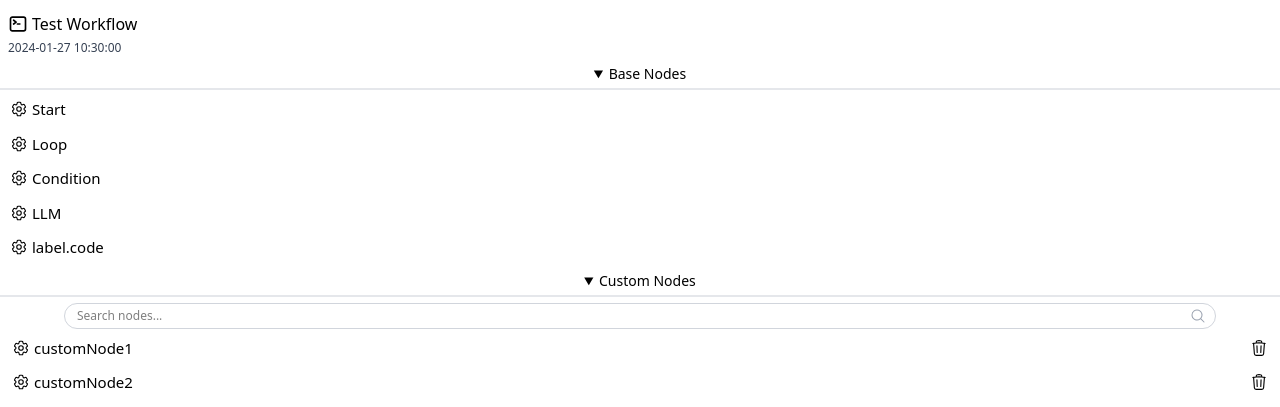
Scenario: NodeTypeSelector Component › filters custom nodes based on search term
Type "customNode1" into the field with placeholder "Search nodes..." at {"x": 640, "y": 316}, box [64,302,1216,328]
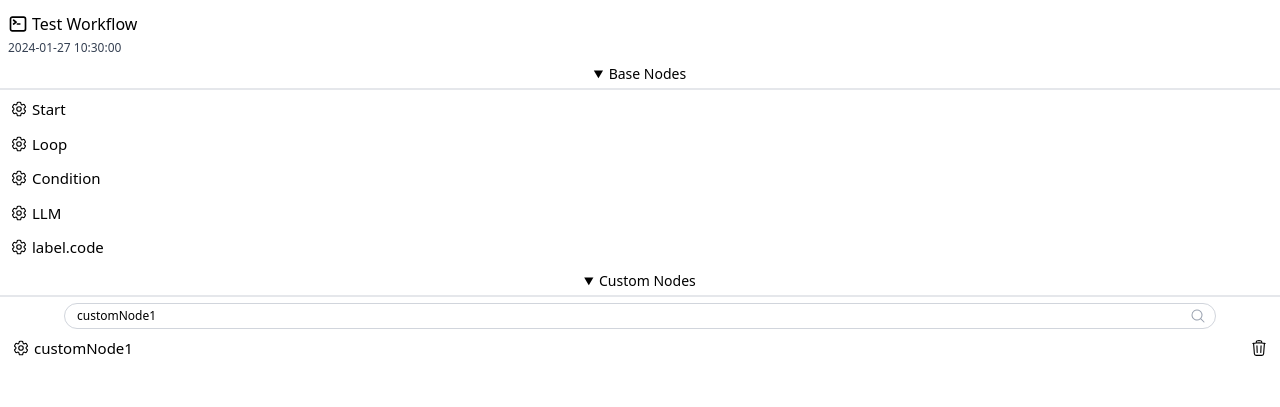
Expected: the text "customNode1" is shown, [34,336,133,359]
Expected: the text "customNode2" is gone
